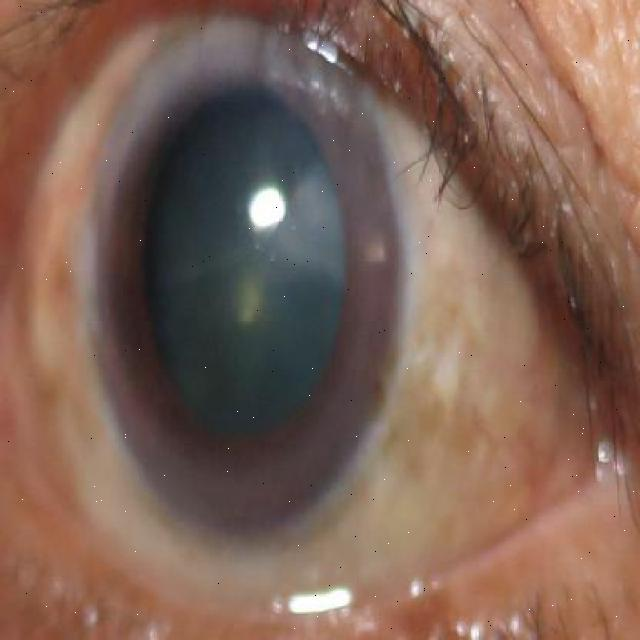Cataract: (91, 19, 415, 554)
